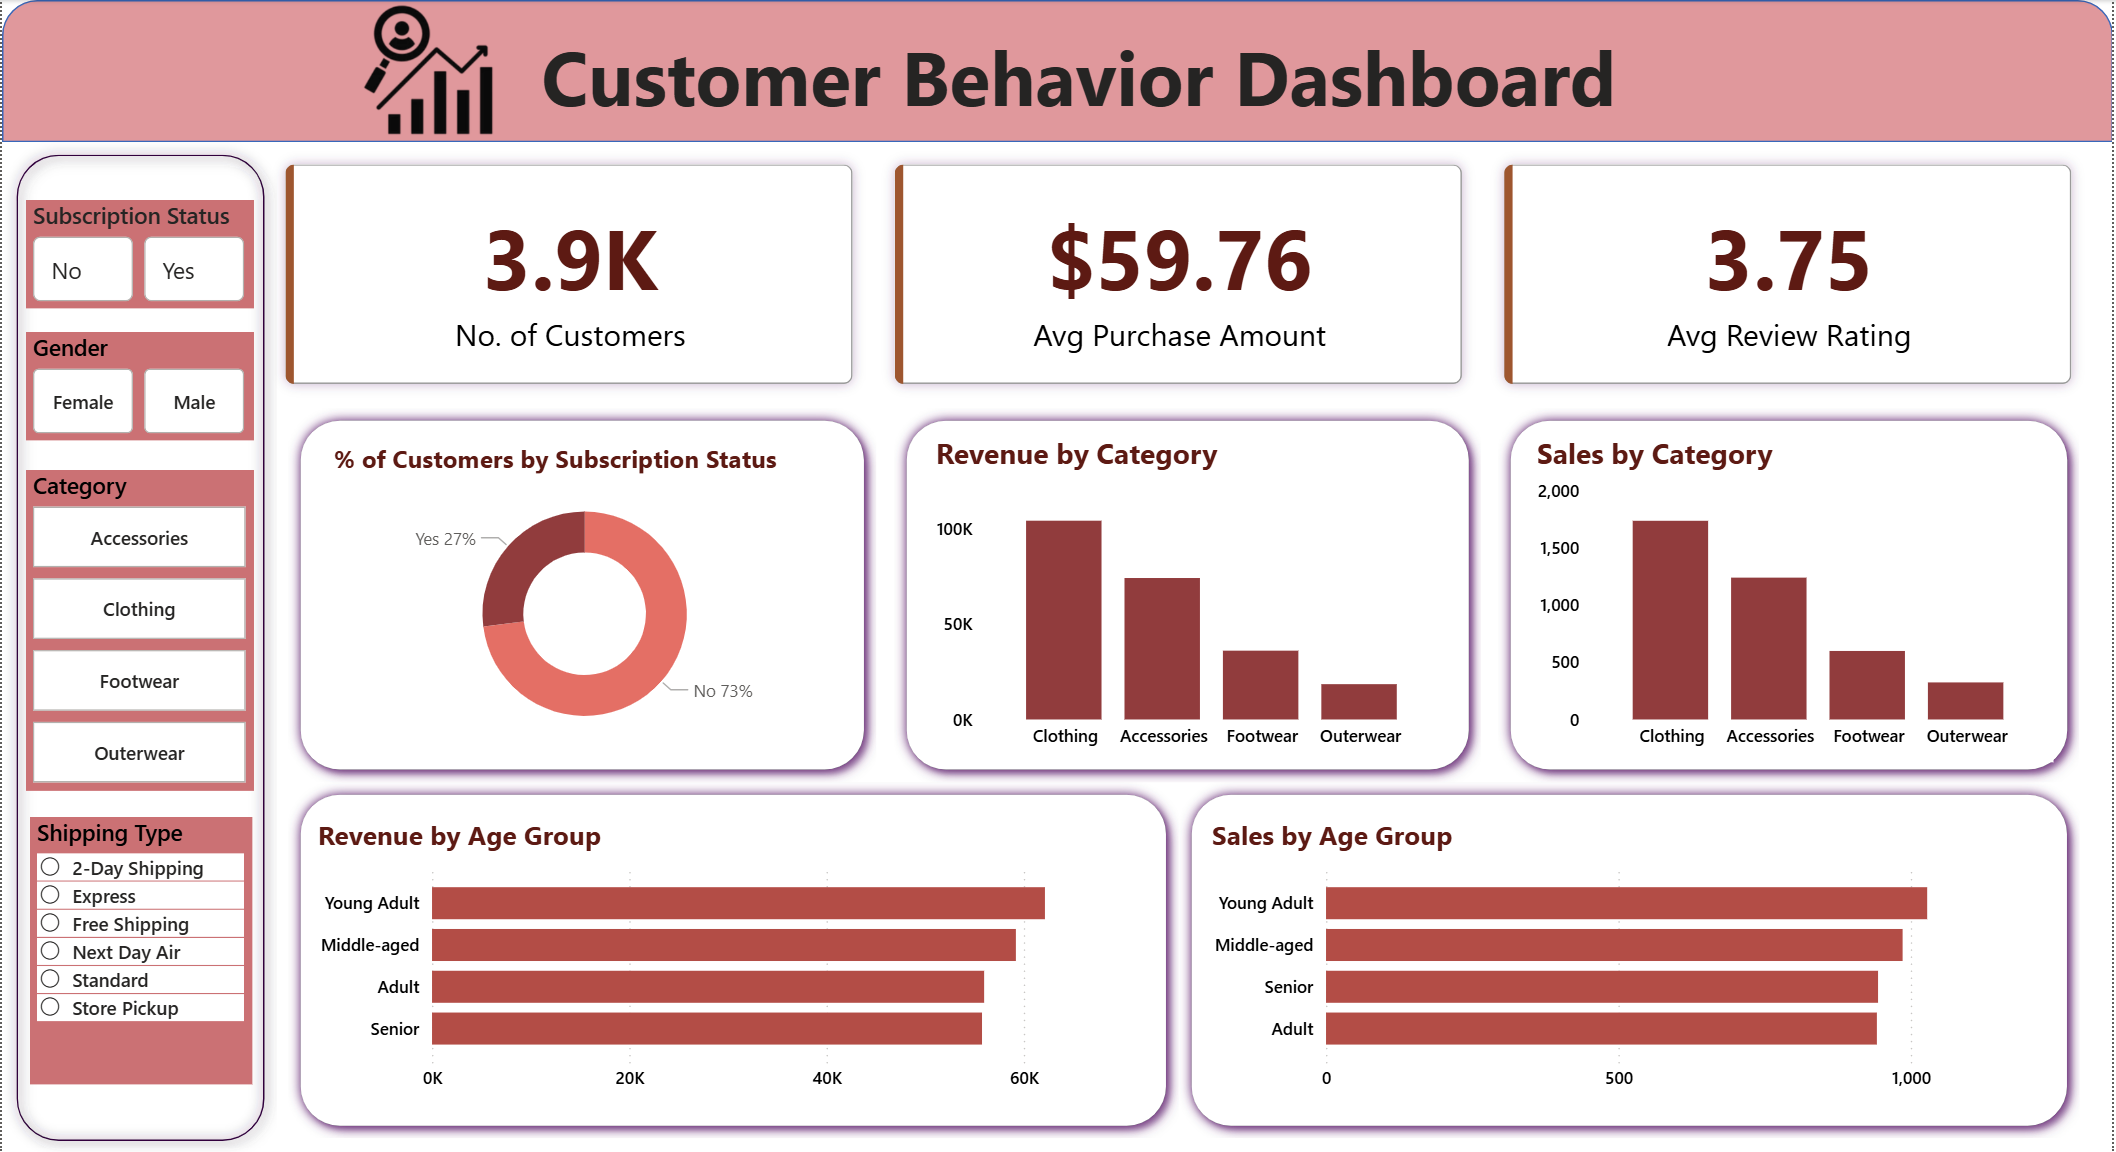

The page's visual inventory and layout, read from the dashboard file:
{"tool":"powerbi","page":{"name":"Page 1","canvas":[1500,820],"ordinal":0},"visuals":[{"type":"cardVisual","fields":{"Data":["customer_behavior customer.No. of Customers","customer_behavior customer.Avg Purchase Amount","customer_behavior customer.Avg Review Rating"]},"box":[173.5,89.1,1326.5,212.9],"z":0},{"type":"shape","box":[0,0,1500,100.9],"z":1000},{"type":"textbox","box":[98.6,11.8,1221.5,89.2],"z":2000},{"type":"shape","box":[203.6,289.6,418.2,265.9],"z":3000},{"type":"donutChart","title":"% of Customers by Subscription Status","fields":{"Category":["customer_behavior customer.subscription_status"],"Y":["Count(customer_behavior customer.customer_id)"]},"box":[231.2,313.3,366.1,222.5],"z":4000},{"type":"shape","box":[633.6,289.6,417.4,265.9],"z":5000},{"type":"shape","box":[1062.9,289.6,413.5,265.9],"z":6000},{"type":"clusteredColumnChart","title":"Revenue by Category","fields":{"Y":["Sum(customer_behavior customer.purchase_amount)"],"Category":["customer_behavior customer.category"]},"box":[658.9,307.7,367.7,233.6],"z":7000},{"type":"clusteredColumnChart","title":"Sales by Category","fields":{"Category":["customer_behavior customer.category"],"Y":["Count(customer_behavior customer.customer_id)"]},"box":[1085.7,307.7,371.6,233.6],"z":8000},{"type":"shape","box":[1.6,101,194.1,718.8],"z":9000},{"type":"advancedSlicerVisual","title":"Subscription Status","fields":{"Values":["customer_behavior customer.subscription_status"]},"box":[17.4,142,161.8,77.3],"z":10000},{"type":"advancedSlicerVisual","title":"Gender","fields":{"Values":["customer_behavior customer.gender"]},"box":[17.4,235.9,161.8,77.3],"z":11000},{"type":"advancedSlicerVisual","title":"Category","fields":{"Values":["customer_behavior customer.category"]},"box":[17.4,333.8,161.8,228],"z":12000},{"type":"listSlicer","title":"Shipping Type","fields":{"Values":["customer_behavior customer.shipping_type"]},"box":[19.7,580.7,157.8,190.2],"z":12001},{"type":"clusteredBarChart","title":"Revenue by Age Group","fields":{"Category":["customer_behavior customer.age_group"],"Y":["Sum(customer_behavior customer.purchase_amount)"]},"box":[226.5,575.2,578.4,203.6],"z":12002},{"type":"shape","box":[203.6,555.5,632.8,253.3],"z":12003},{"type":"shape","box":[836.4,555.5,639.9,253.3],"z":12004},{"type":"clusteredBarChart","title":"Sales by Age Group","fields":{"Category":["customer_behavior customer.age_group"],"Y":["Count(customer_behavior customer.customer_id)"]},"box":[854.6,580.7,603.6,203.6],"z":12005},{"type":"clusteredBarChart","title":"Revenue by Age Group","fields":{"Category":["customer_behavior customer.age_group"],"Y":["Sum(customer_behavior customer.purchase_amount)"]},"box":[219.4,580.7,592.6,203.6],"z":12006},{"type":"image","box":[243.8,0,119.9,101],"z":12007}]}

Visuals, with their boxes in screenshot pixels (x1, y1, x2, y2), scaled from the page's 1500x820 canvas onto the 2116x1152 screenshot:
cardVisual - customer_behavior customer.No. of Customers x customer_behavior customer.Avg Purchase Amount: detection(245, 125, 2115, 424)
shape: detection(0, 0, 2115, 142)
textbox: detection(139, 17, 1862, 142)
shape: detection(287, 407, 877, 780)
"% of Customers by Subscription Status" donutChart: detection(326, 440, 843, 753)
shape: detection(894, 407, 1483, 780)
shape: detection(1499, 407, 2083, 780)
"Revenue by Category" clusteredColumnChart: detection(929, 432, 1448, 760)
"Sales by Category" clusteredColumnChart: detection(1532, 432, 2056, 760)
shape: detection(2, 142, 276, 1151)
"Subscription Status" advancedSlicerVisual: detection(25, 199, 253, 308)
"Gender" advancedSlicerVisual: detection(25, 331, 253, 440)
"Category" advancedSlicerVisual: detection(25, 469, 253, 789)
"Shipping Type" listSlicer: detection(28, 816, 250, 1083)
"Revenue by Age Group" clusteredBarChart: detection(320, 808, 1135, 1094)
shape: detection(287, 780, 1180, 1136)
shape: detection(1180, 780, 2083, 1136)
"Sales by Age Group" clusteredBarChart: detection(1206, 816, 2057, 1102)
"Revenue by Age Group" clusteredBarChart: detection(310, 816, 1145, 1102)
image: detection(344, 0, 513, 142)
